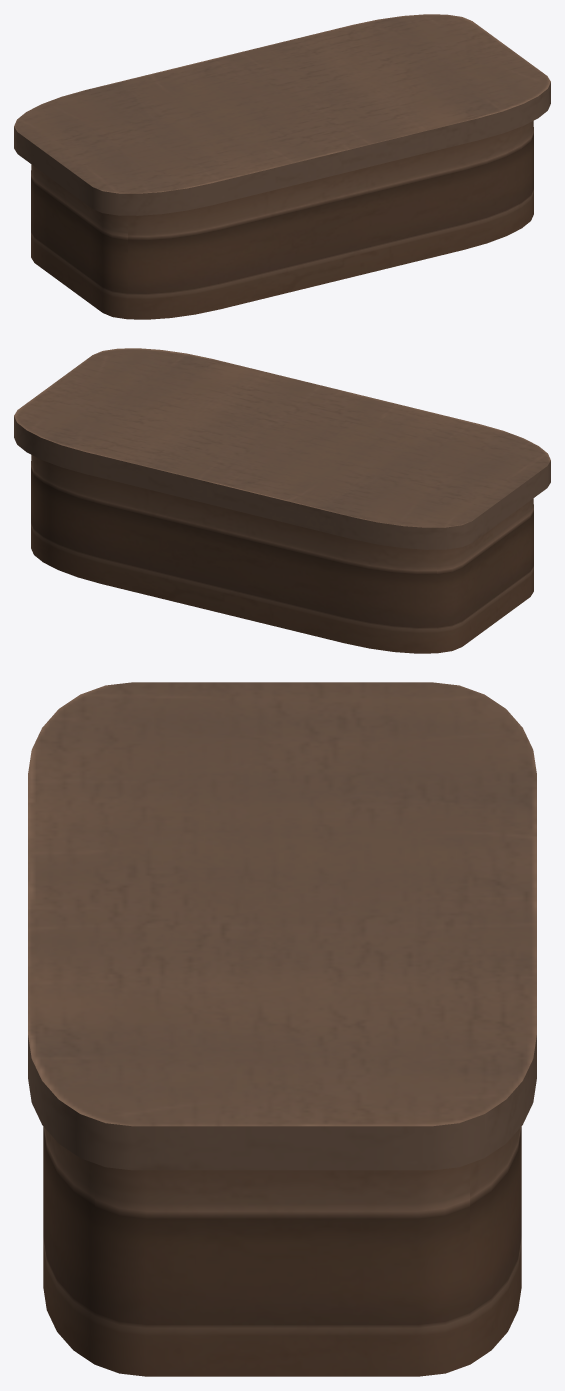
Rendered from Prop_Table_Kitchen.fbx.
The picture shows the model from 3 angles, top to bottom: view 1: azimuth 30°, elevation 25°; view 2: azimuth 150°, elevation 25°; view 3: azimuth 270°, elevation 25°; orthographic projection. The views are drawn at different scales.
Visible parts, largest first — view 1: table; view 2: table; view 3: table.
Boxes of the visible parts, x1=… form: table: x1=14, y1=14, x2=550, y2=319; table: x1=14, y1=348, x2=550, y2=653; table: x1=28, y1=682, x2=536, y2=1376.
Size of the model in its own units: 362 by 100 by 175.
